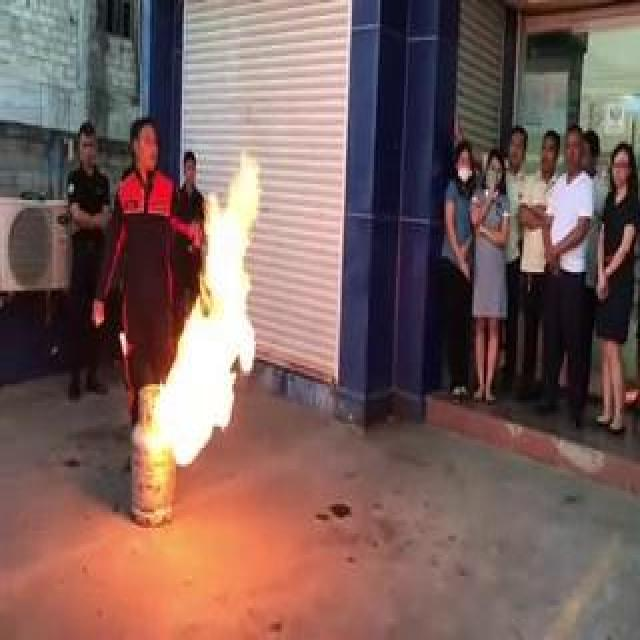Smoke: (138, 149, 260, 475)
